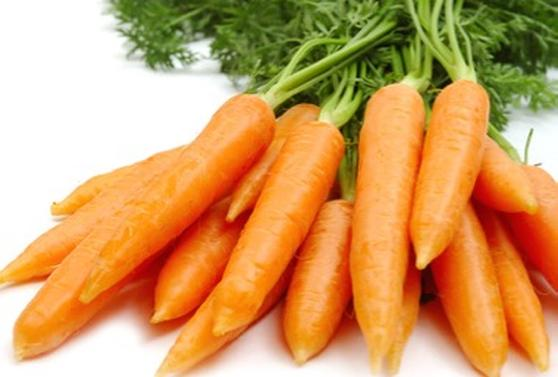carrot: (87, 90, 277, 309), (203, 122, 365, 343), (348, 78, 427, 366), (412, 64, 495, 275)
